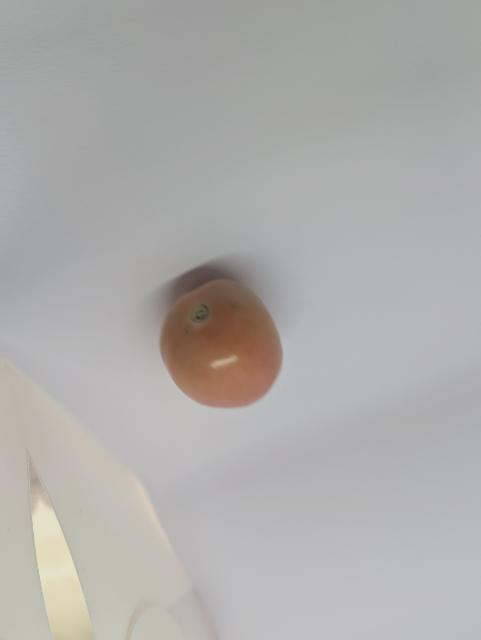turning: (155, 267, 294, 420)
